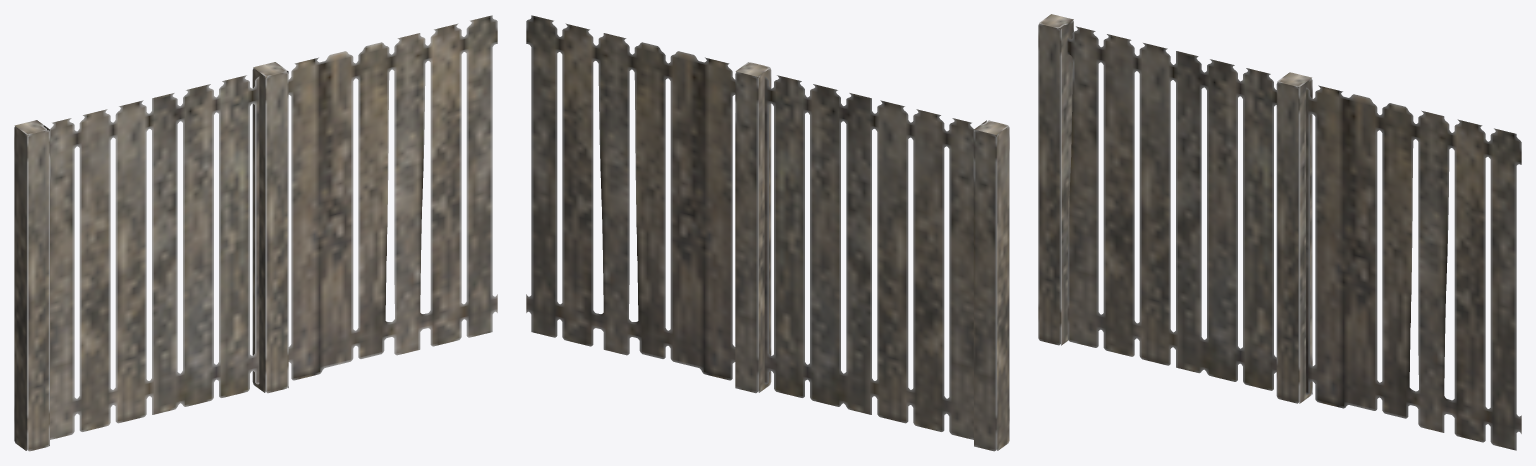
Rendered from FenceWoodPlanks01.fbx.
3 renders of one model, left to right at view 1: azimuth 30°, elevation 25°; view 2: azimuth 150°, elevation 25°; view 3: azimuth 330°, elevation 25°, orthographic.
Parts seen in each view (by area): view 1: FenceWoodPlanks01, FenceWoodPlanks01Post; view 2: FenceWoodPlanks01, FenceWoodPlanks01Post; view 3: FenceWoodPlanks01, FenceWoodPlanks01Post.
Part boxes in pixels (x1,y1,x2,y2): FenceWoodPlanks01: [50, 15, 497, 439]; FenceWoodPlanks01Post: [14, 120, 49, 451]; FenceWoodPlanks01: [526, 15, 974, 439]; FenceWoodPlanks01Post: [974, 120, 1009, 451]; FenceWoodPlanks01: [1067, 26, 1521, 450]; FenceWoodPlanks01Post: [1038, 14, 1073, 345].
Bounding box in the file's own units: 315 × 200 × 15.
